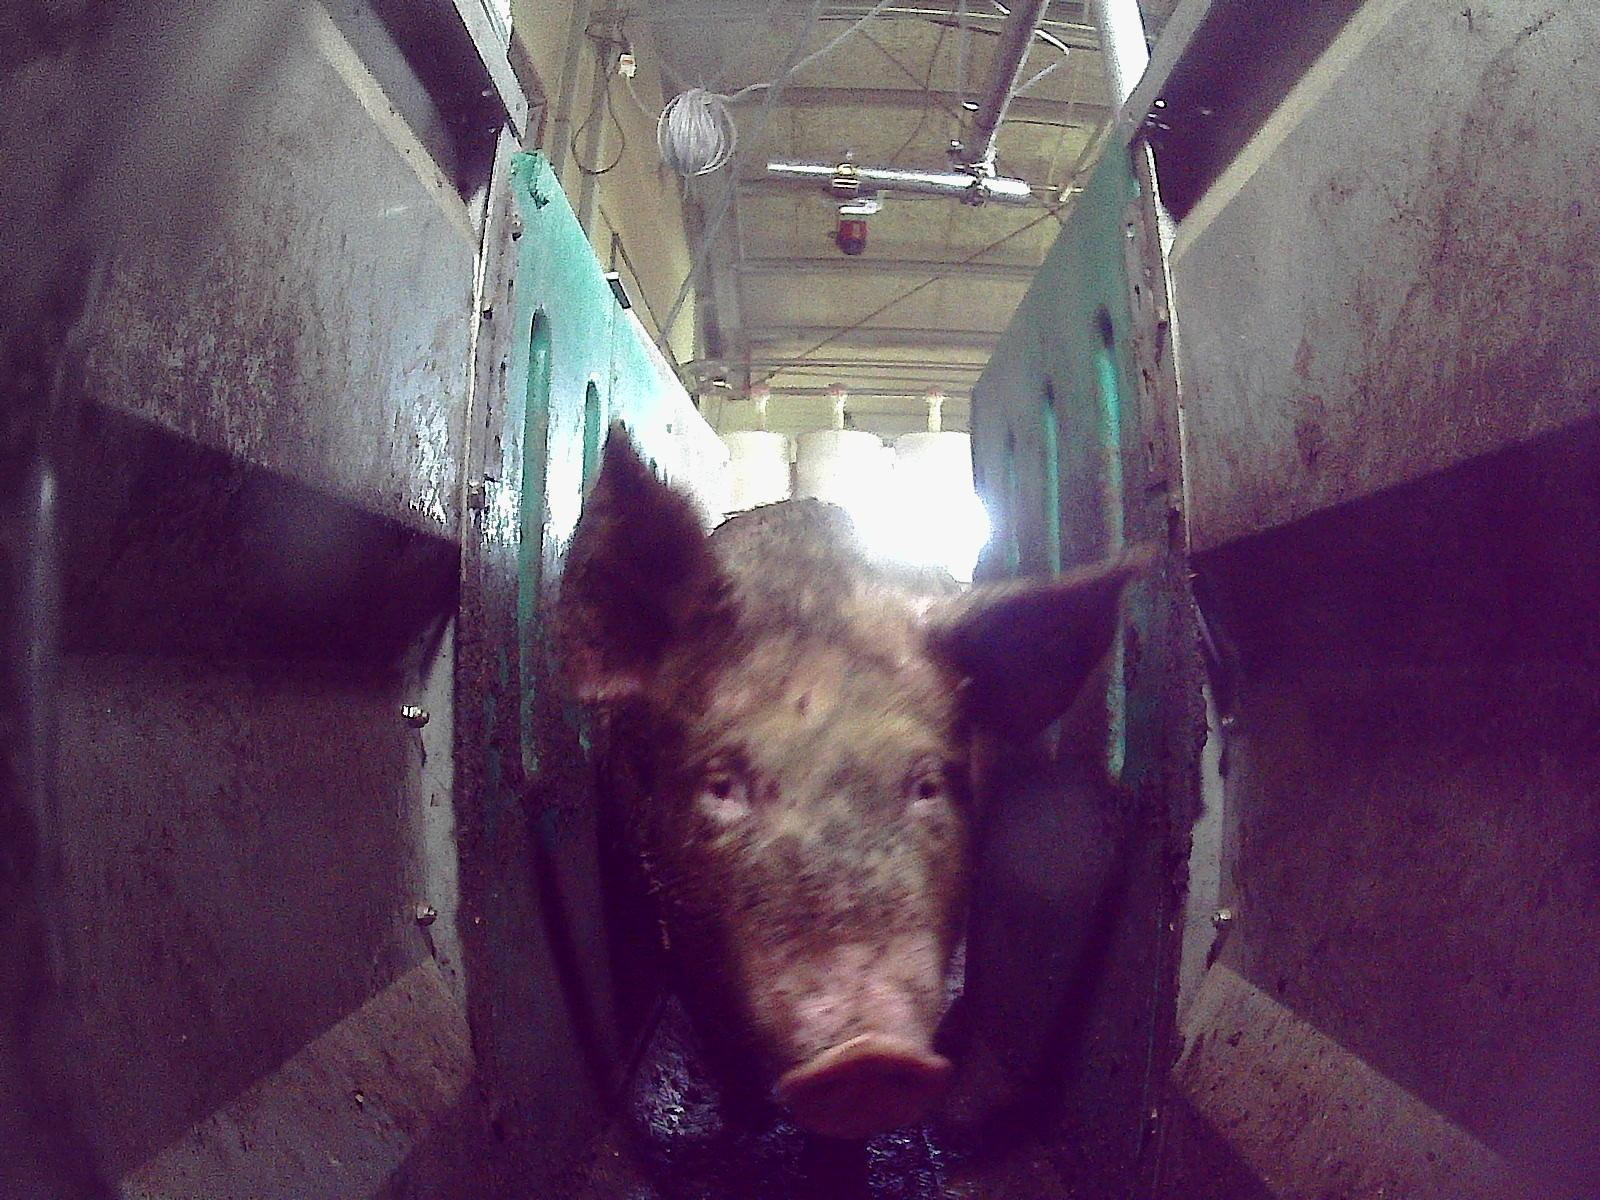Face: (670, 640, 974, 1141)
